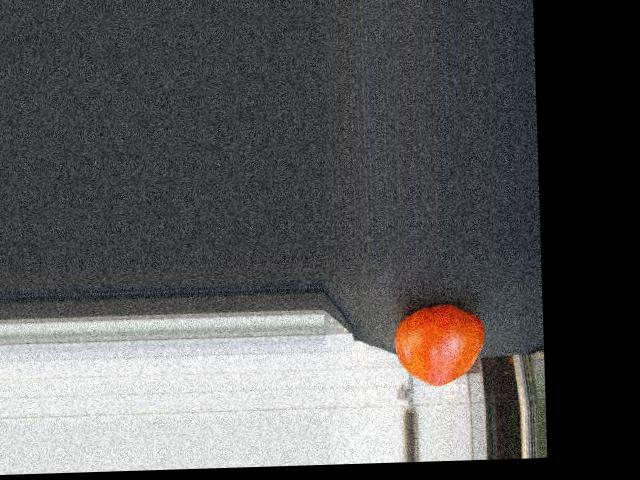tomato: (393, 303, 485, 387)
